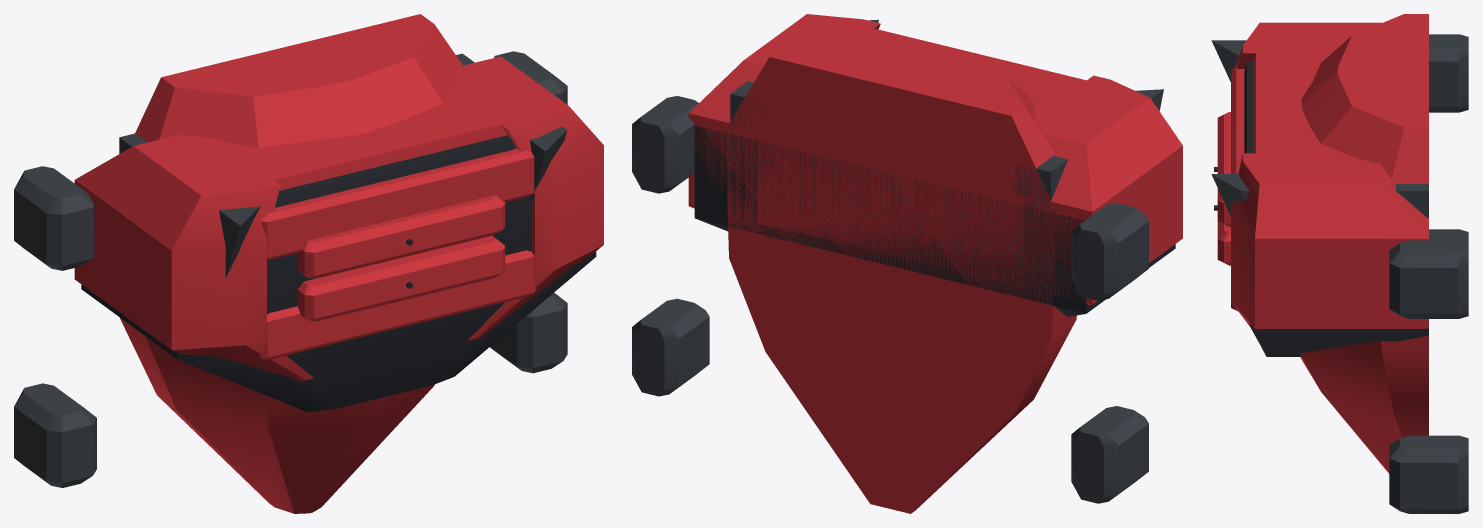
File: UpperArmFront_Set02_Bastion.fbx
The picture shows the model from 3 angles, left to right: view 1: azimuth 30°, elevation 25°; view 2: azimuth 150°, elevation 25°; view 3: azimuth 270°, elevation 25°; orthographic projection. The views are drawn at different scales.
Parts seen in each view (by area): view 1: UpperArmFront_Set02_Bastion; view 2: UpperArmFront_Set02_Bastion; view 3: UpperArmFront_Set02_Bastion.
Part boxes in pixels (x1=…): UpperArmFront_Set02_Bastion: x1=14, y1=14, x2=603, y2=513; UpperArmFront_Set02_Bastion: x1=632, y1=14, x2=1182, y2=513; UpperArmFront_Set02_Bastion: x1=1211, y1=14, x2=1468, y2=513.
Bounding box in the file's own units: 0.41 × 0.34 × 0.195.
